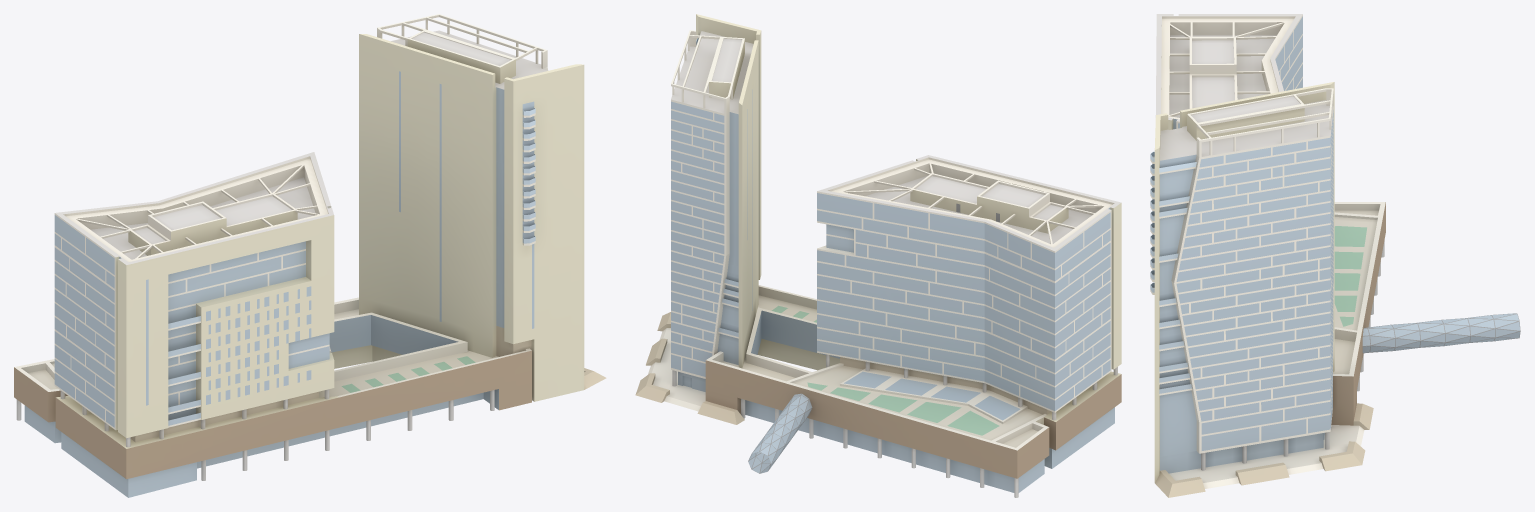
The picture shows the model from 3 angles, left to right: view 1: azimuth 30°, elevation 25°; view 2: azimuth 150°, elevation 25°; view 3: azimuth 270°, elevation 25°; orthographic projection. The views are drawn at different scales.
Visible parts, largest first — view 1: 70030076201858757; view 2: 70030076201858757; view 3: 70030076201858757.
Part boxes in pixels (<box>): 70030076201858757: <box>14,14,606,497</box>; 70030076201858757: <box>635,14,1121,497</box>; 70030076201858757: <box>1150,14,1520,497</box>.
Size of the model in its own units: 118 by 75.8 by 75.86.
1 material, 1 textured.
